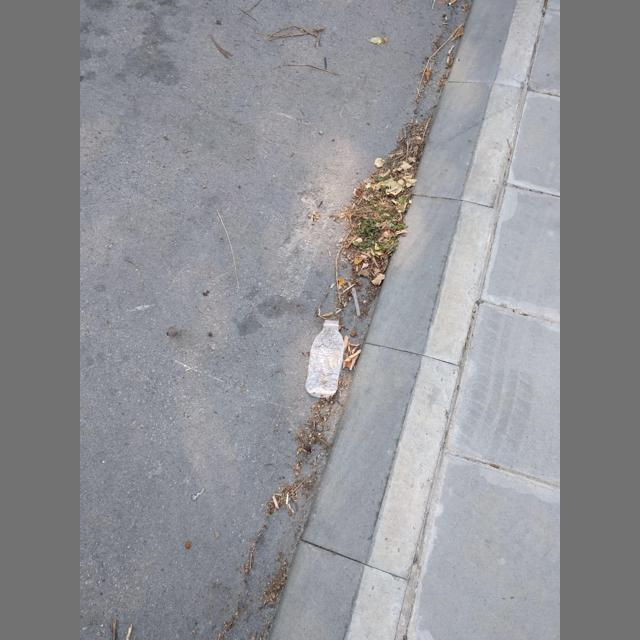litter: (305, 320, 344, 398), (351, 287, 361, 314), (447, 0, 457, 7)
